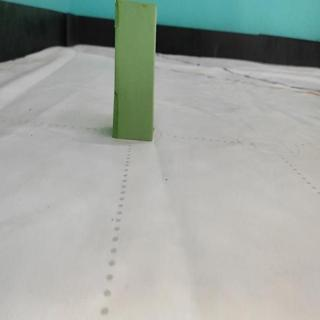greenbox: (113, 1, 157, 142)
